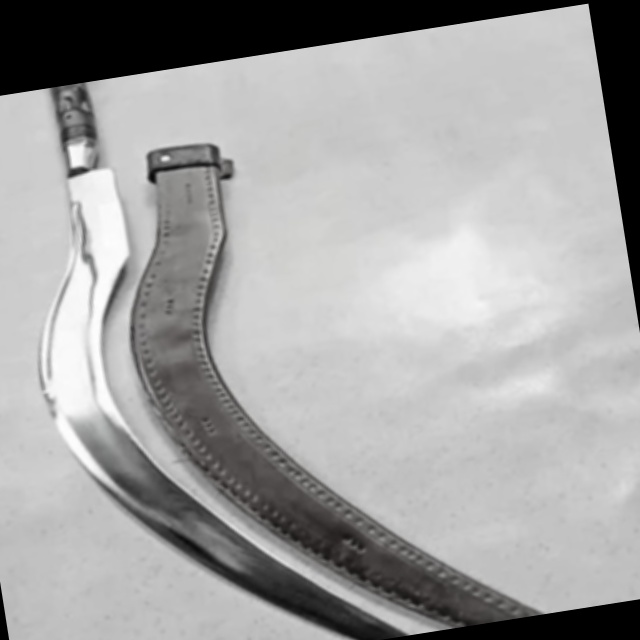Sharp-Object: (0, 45, 415, 640)
